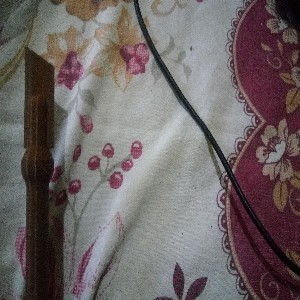cutter: (20, 45, 57, 300)
